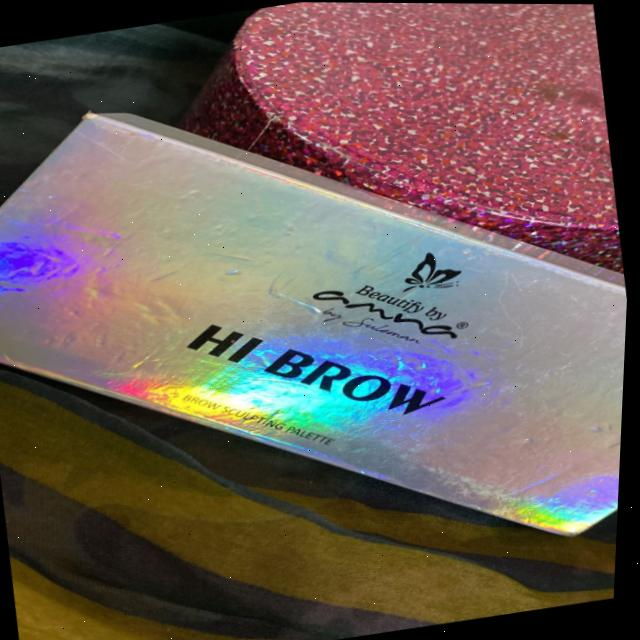makeup: (0, 12, 640, 640)
